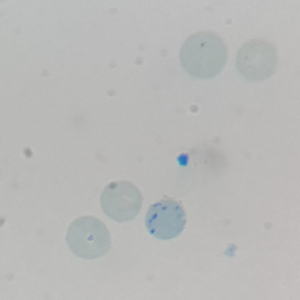aggregate reticulocyte: (142, 198, 188, 242)
erythrocyte: (65, 214, 113, 261), (234, 38, 279, 83), (99, 180, 144, 224)
punctate reticulocyte: (178, 31, 228, 80)
